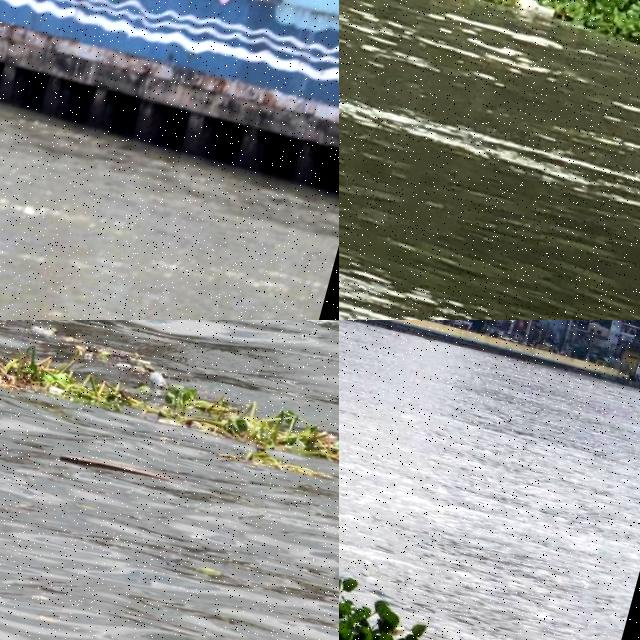water-hyacinth: (153, 362, 340, 462), (1, 321, 141, 419), (340, 569, 431, 640), (548, 1, 640, 43), (1, 321, 28, 345)
